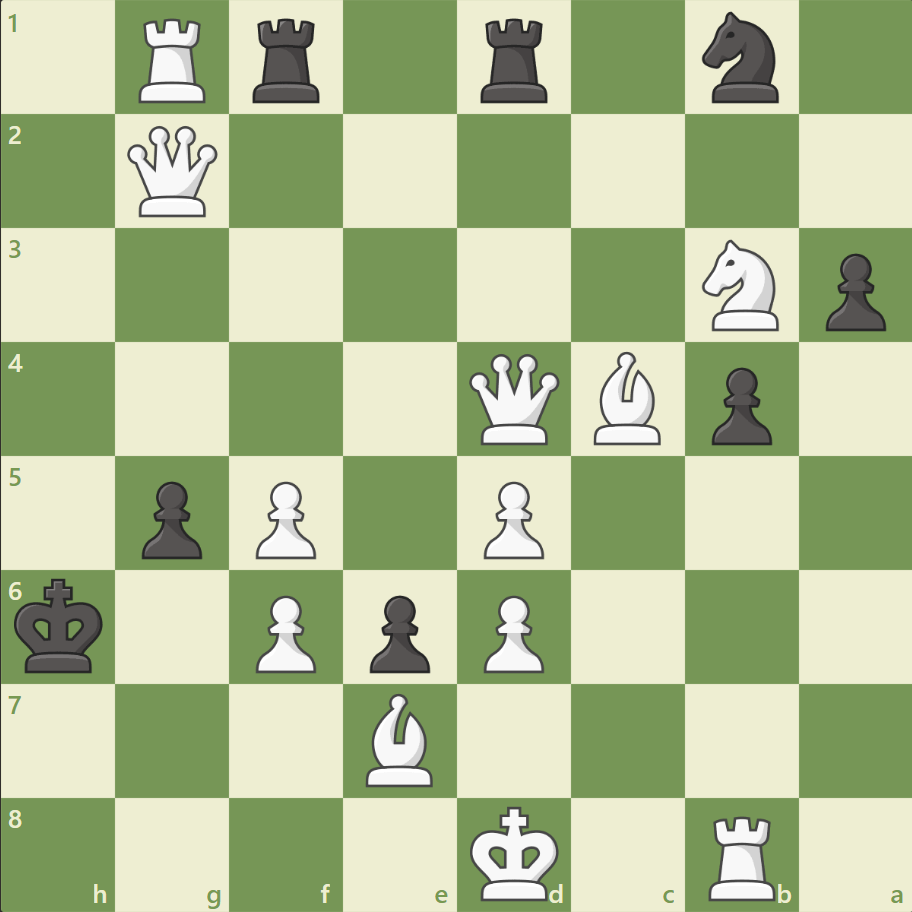B: (358, 687, 442, 790), (585, 347, 669, 449)
K: (465, 798, 565, 906)
N: (692, 234, 789, 337)
P: (474, 586, 549, 677), (247, 586, 322, 677), (474, 473, 549, 564), (247, 473, 322, 564)
Q: (464, 349, 563, 449), (124, 122, 223, 222)
R: (700, 806, 783, 904), (133, 12, 215, 109)
k: (11, 571, 111, 679)
n: (692, 7, 789, 110)
p: (133, 473, 208, 564), (701, 359, 776, 450), (361, 586, 435, 677), (815, 246, 889, 337)
r: (473, 12, 556, 109), (246, 12, 329, 109)
